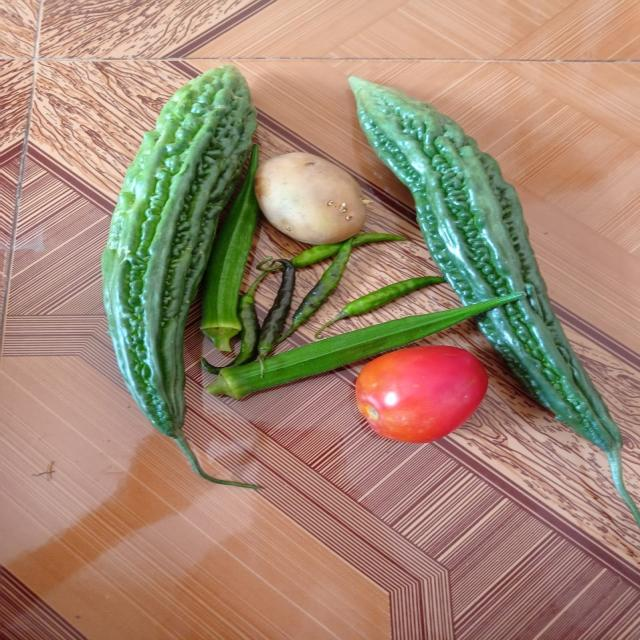Organik: (88, 99, 248, 466), (354, 73, 556, 296), (349, 346, 488, 446), (263, 156, 370, 243), (321, 275, 439, 328), (196, 214, 242, 340)
